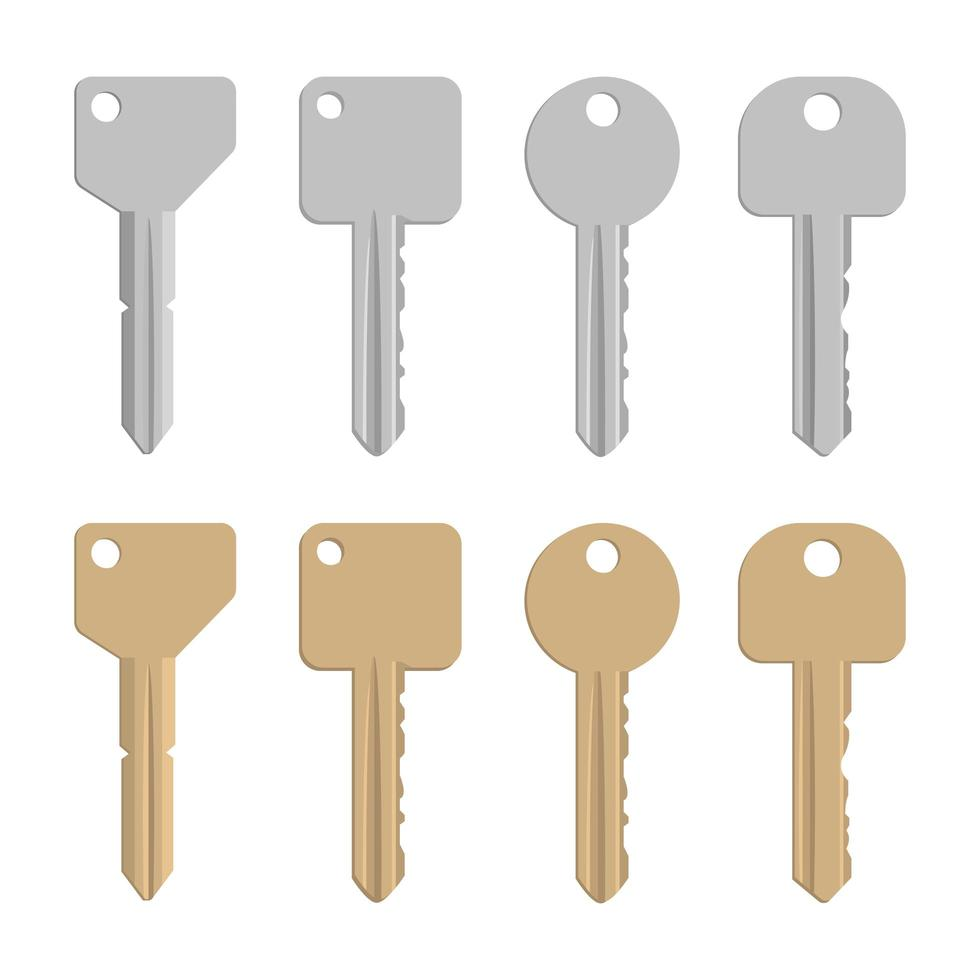key: (736, 76, 907, 457), (738, 522, 907, 903), (298, 77, 465, 457), (298, 525, 464, 901), (72, 523, 236, 902), (72, 77, 236, 454), (522, 522, 682, 905), (524, 76, 682, 455)
